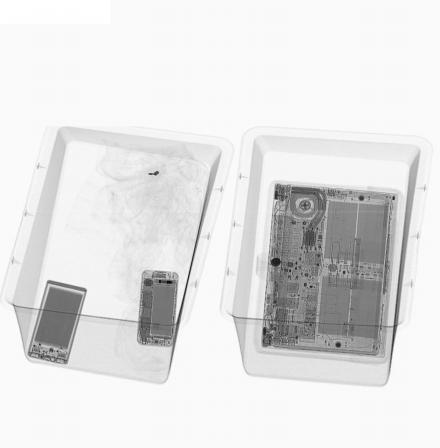Powerbank: (24, 279, 90, 364)
